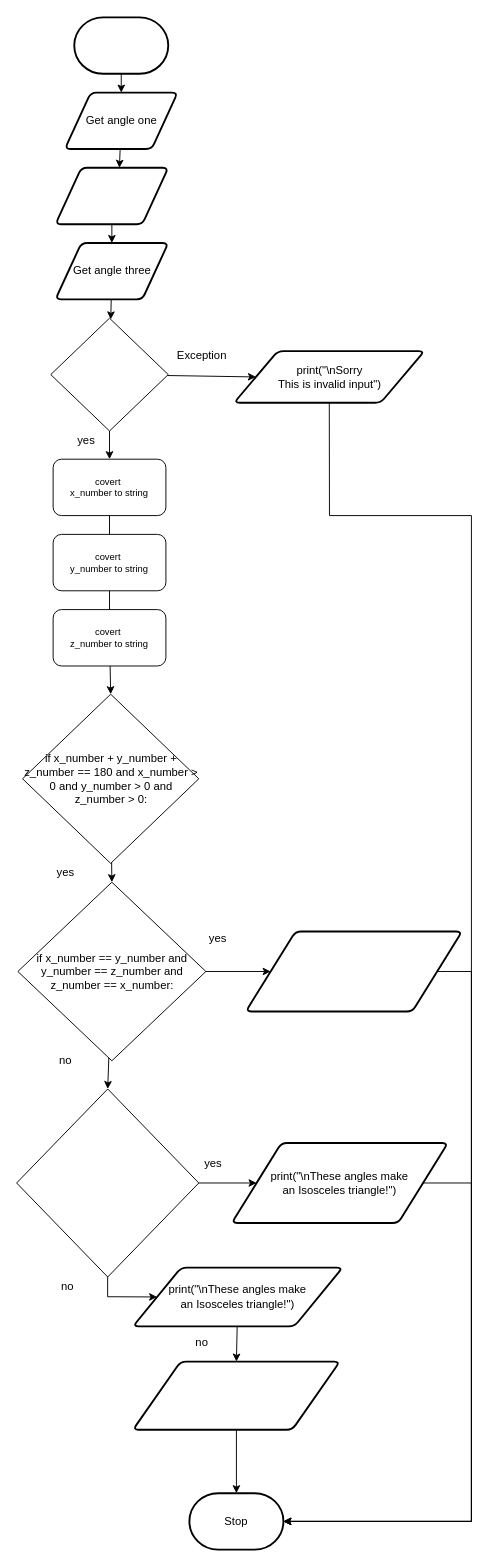
The diagram is 495 pixels wide and 1566 high, and some of its shapes have lost their labels. Here are the shapes that lost their labels. From the top down, the box of each, then its label:
(73, 16, 169, 74): Start
(54, 166, 169, 225): Get angle two
(50, 317, 168, 431): try
(244, 930, 462, 1012): print("\nThese angles make an Equilateral triangle!")
(16, 1088, 199, 1277): elif x_number == y_number or y_number == z_number or x_number == z_number:
(132, 1360, 340, 1430): print("This is not a triangle")
